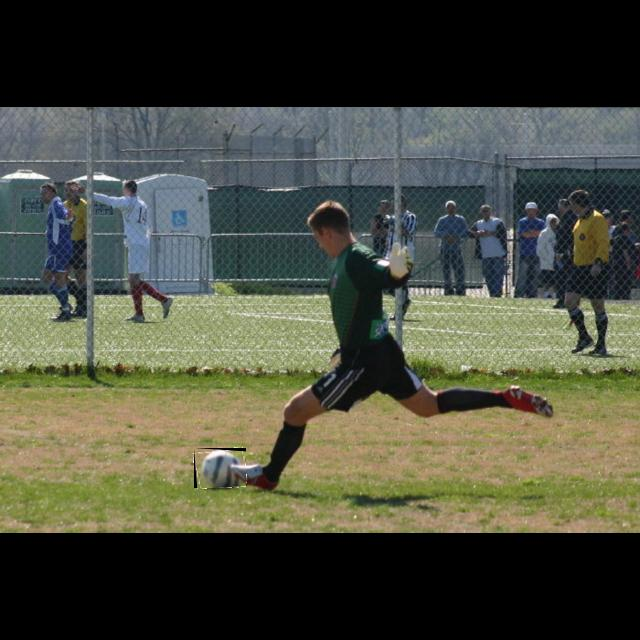Football: (194, 448, 246, 488)
